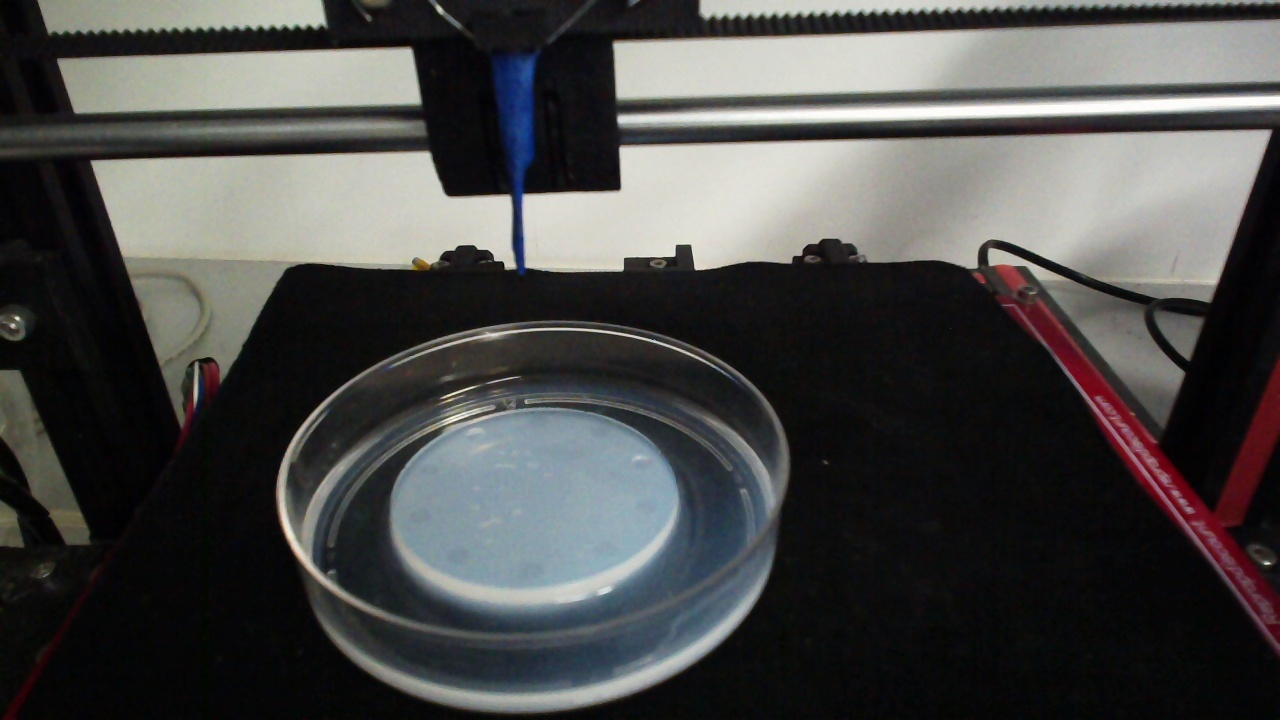groove: (517, 560, 546, 582), (589, 540, 618, 560), (444, 545, 469, 566), (634, 495, 656, 516), (587, 421, 610, 441), (409, 510, 435, 527), (527, 412, 548, 430), (630, 455, 654, 470), (465, 426, 486, 443), (419, 461, 440, 478)
needle: (495, 56, 535, 274)
